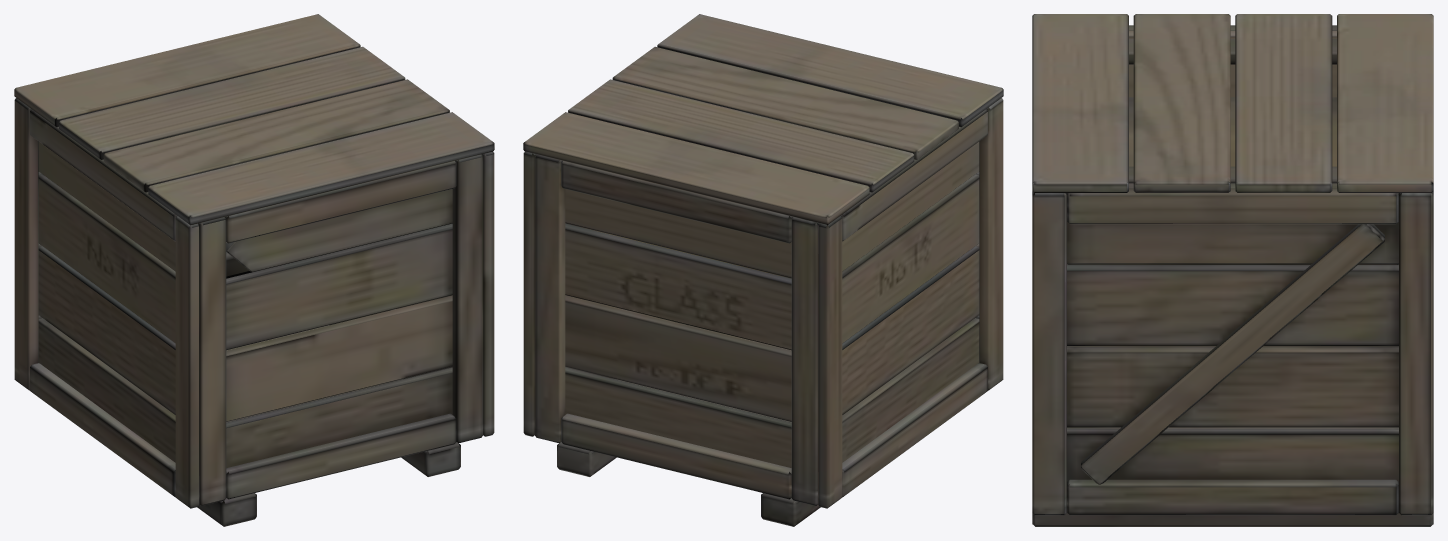
Rendered from furniture_crate_small.glb.
3 views of the same model, side by side, from view 1: azimuth 30°, elevation 25°; view 2: azimuth 150°, elevation 25°; view 3: azimuth 270°, elevation 25° (orthographic). The views are drawn at different scales.
Visible parts, largest first — view 1: furniture_crate_small; view 2: furniture_crate_small; view 3: furniture_crate_small.
Boxes of the visible parts, box(x1,y1,x2,y2) form: furniture_crate_small: box(14, 14, 494, 526); furniture_crate_small: box(523, 14, 1003, 526); furniture_crate_small: box(1032, 14, 1433, 526).
Size of the model in its own units: 0.6 by 0.6 by 0.6.
1 material, 1 textured.
